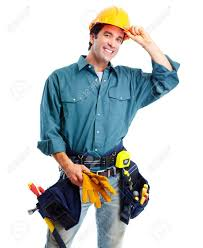Person_wearing_helmet: (84, 3, 135, 37)
